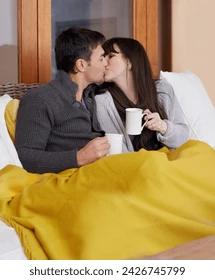blanket: (0, 139, 215, 260)
sweater: (14, 72, 106, 175), (95, 79, 190, 154)
